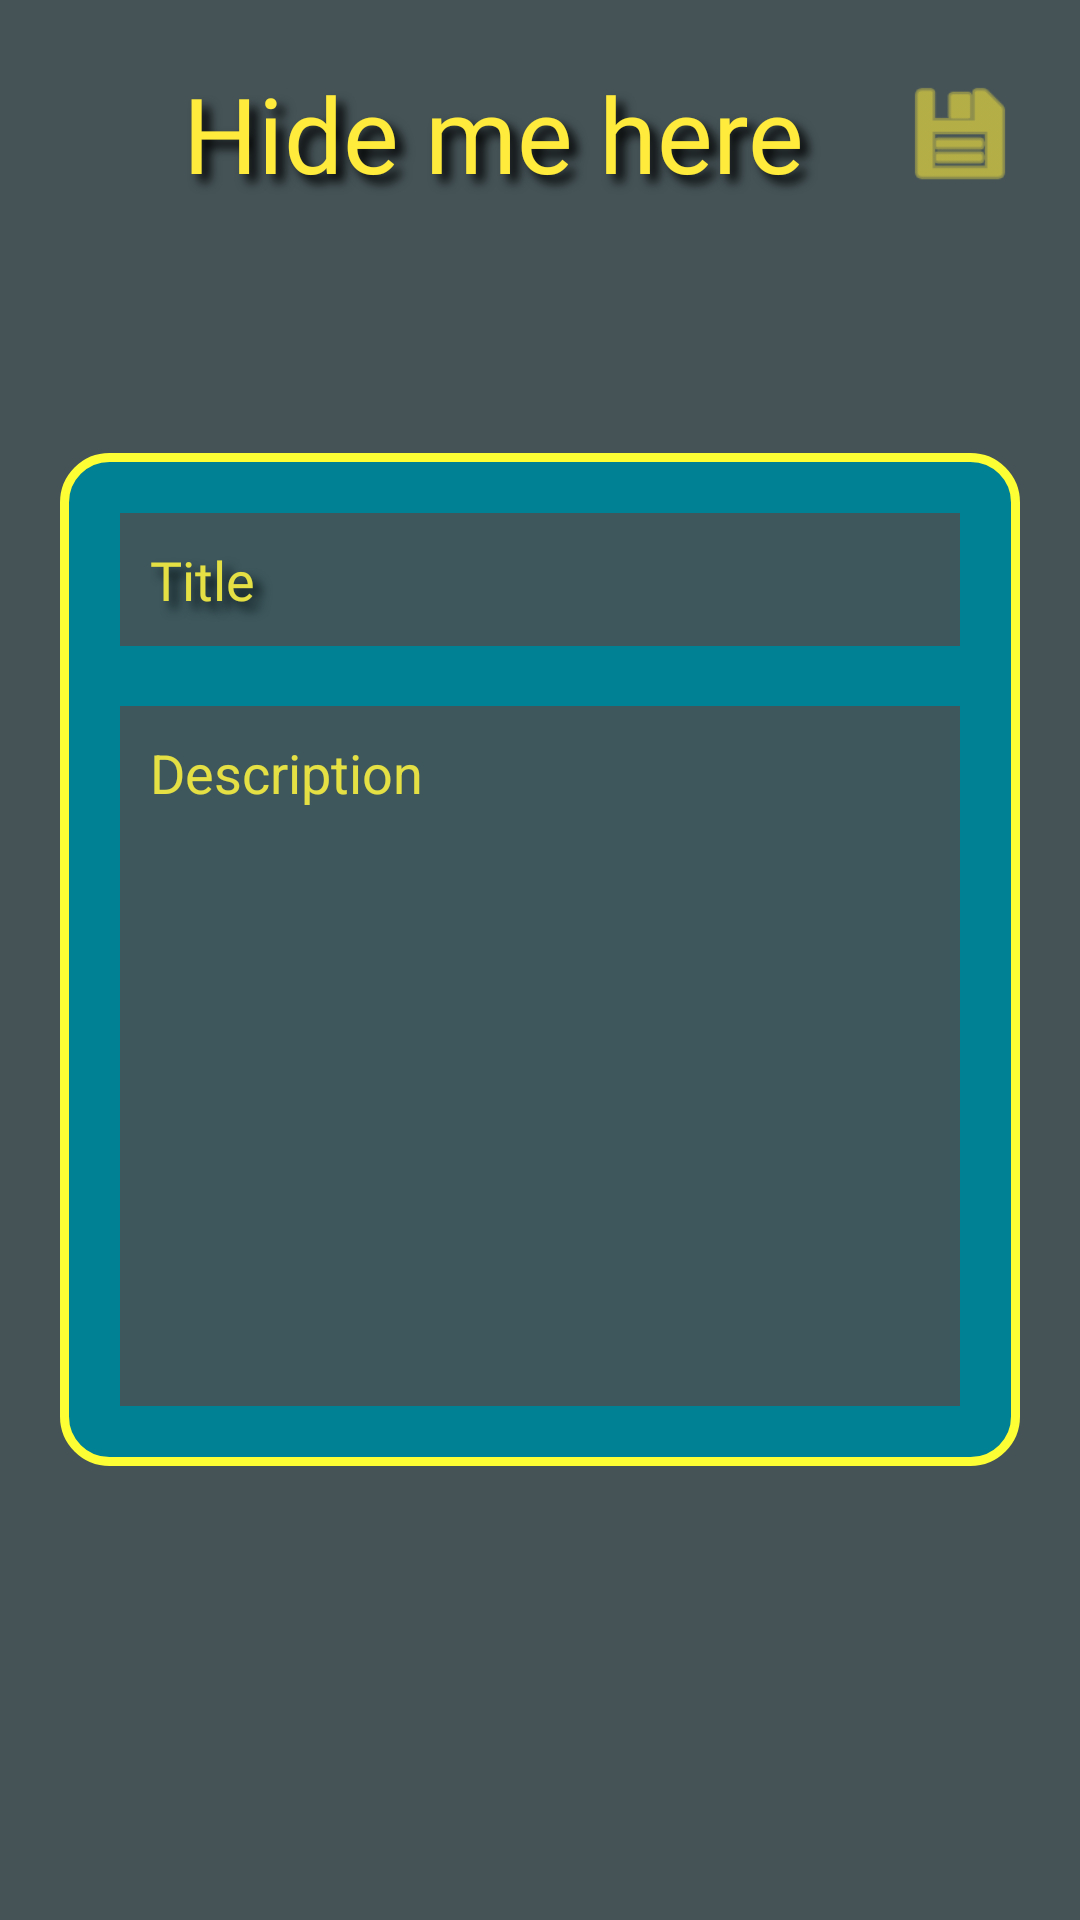

Locate icon controls on the screen. Image size 1080px×1920px, boxes as (x1, y1, x2, y2).
save: (915, 88, 1005, 179)
